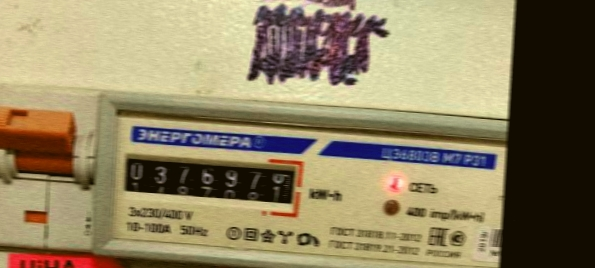0: (130, 156, 144, 177)
1: (271, 180, 283, 199)
3: (153, 160, 168, 181)
6: (200, 160, 215, 181)
7: (176, 159, 191, 181), (248, 165, 262, 187)
9: (224, 163, 238, 185)
screen: (115, 141, 308, 215)
